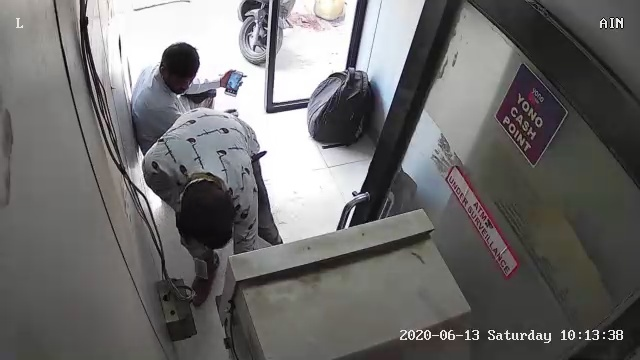open: (232, 1, 384, 163)
